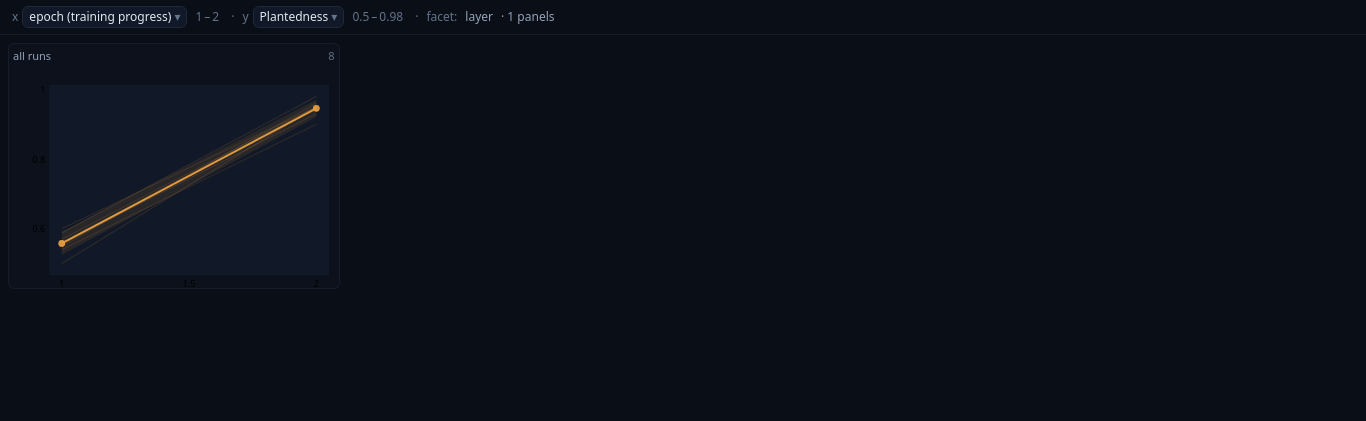
Scenario: group plot toolbar axis pickers › picking an x metric writes store.plot.x (leaving epoch mode)
Click the button with aria-label "x metric". click: (105, 17)
box: [22, 6, 188, 28]
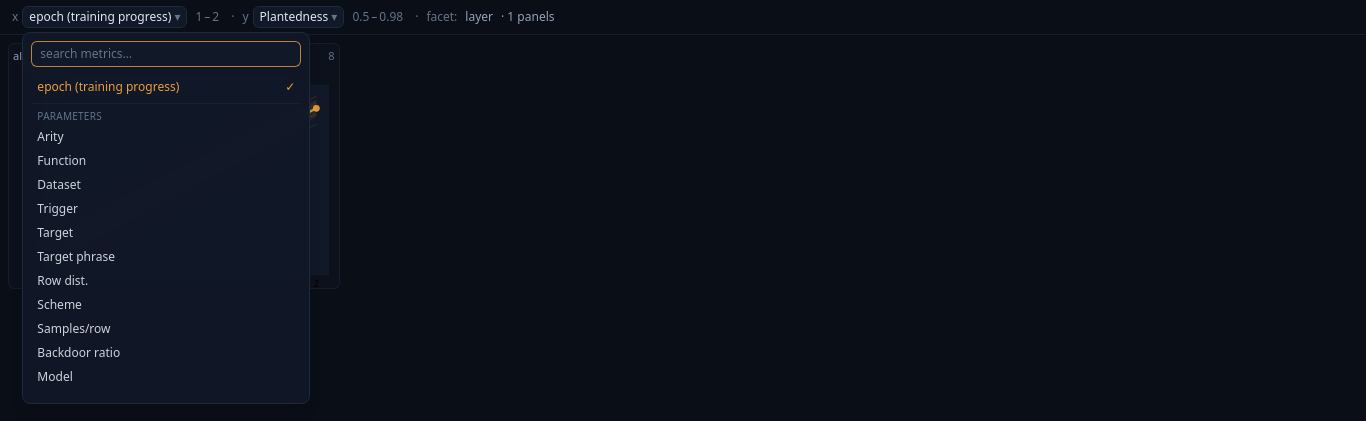
Type "density" into the field with placeholder "search metrics…". click: (166, 54)
box: [31, 41, 301, 67]
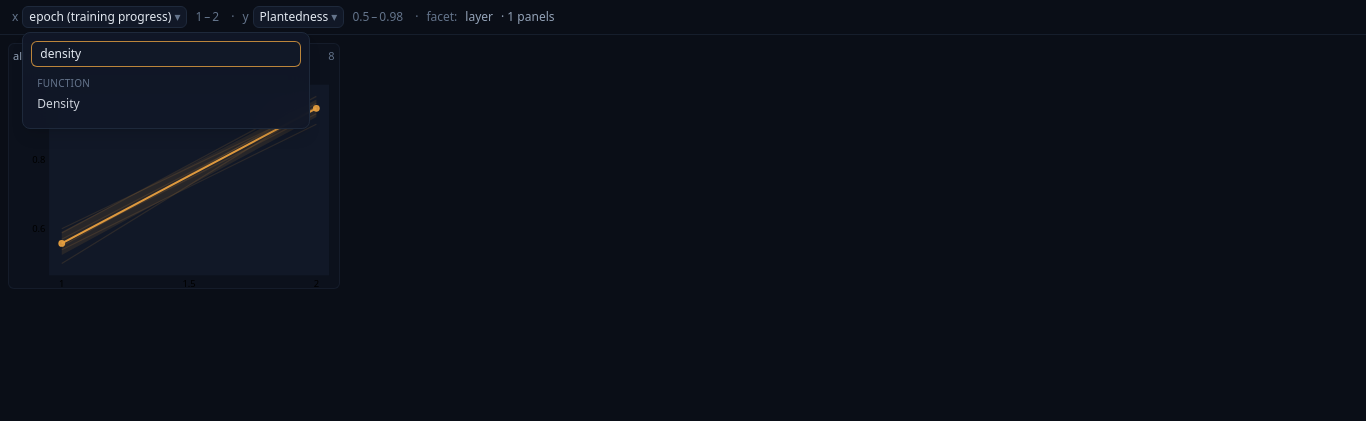
Click the button "Density". click: (58, 104)
box: [31, 92, 301, 116]
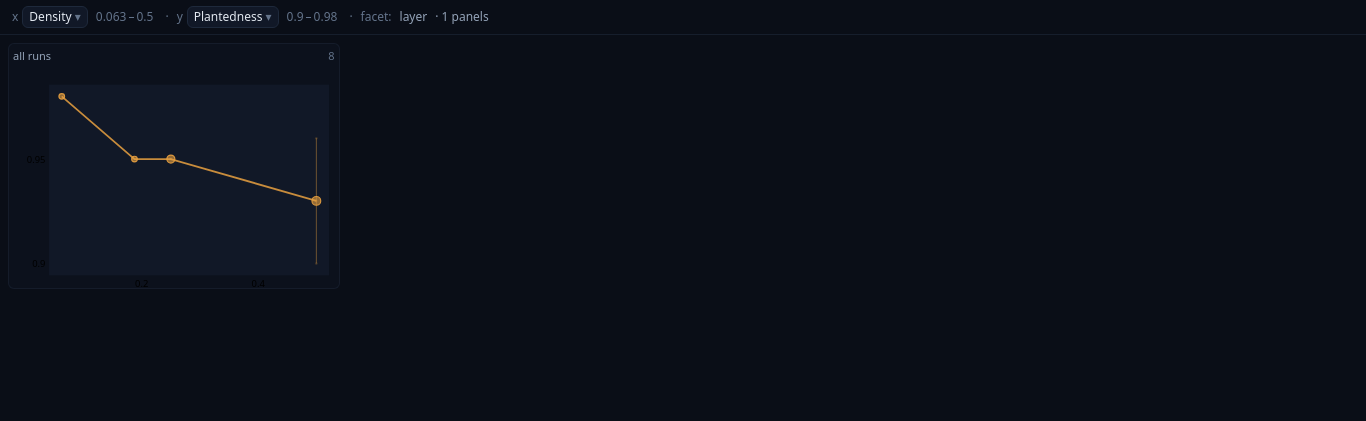
Check: the button with aria-label "x metric" shows "Density", box [22, 6, 88, 28]
